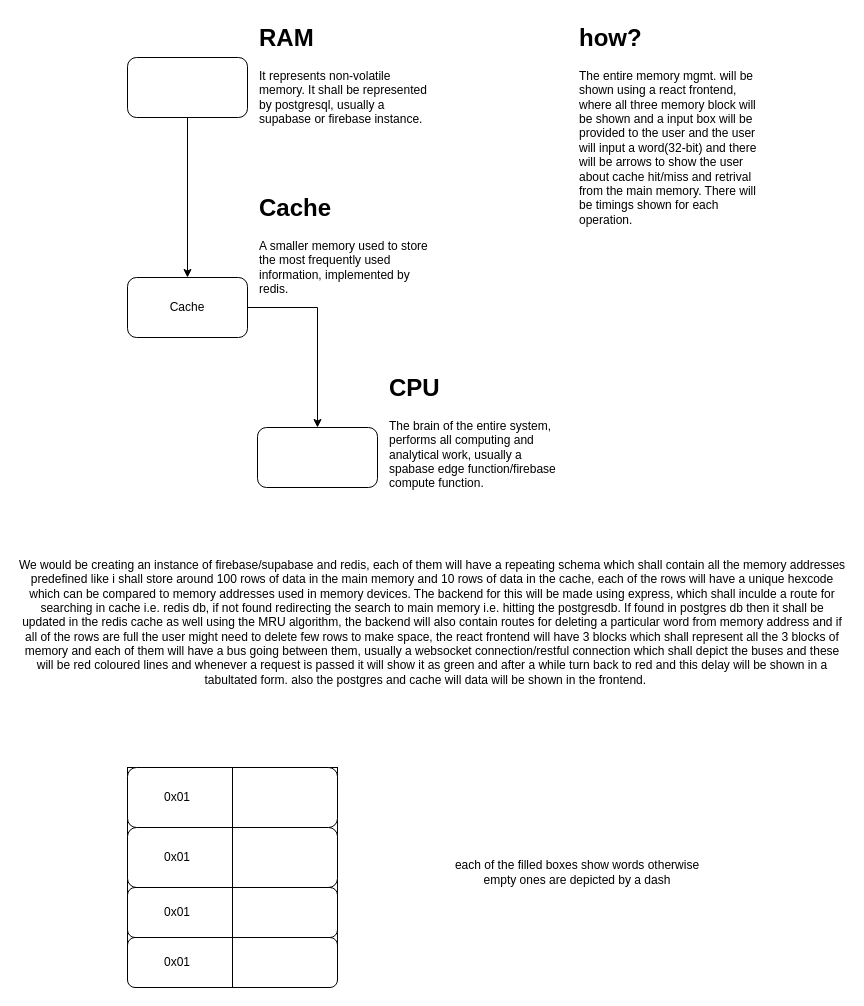
Image size: 864x1006. Some labels were removed from this diagram. The shapes that lost their labels are listed below. From the top down, each one's centre as x and y in pixels, then its label:
At (187,87): "RAM".
At (317,457): "CPU".
